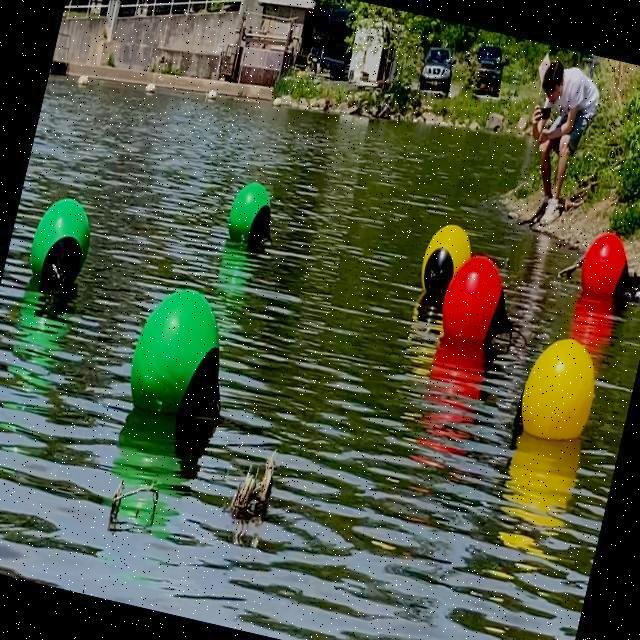buoy: (121, 277, 247, 434), (510, 332, 604, 446), (438, 248, 526, 348), (24, 190, 99, 292), (416, 219, 478, 305), (222, 177, 284, 252)
